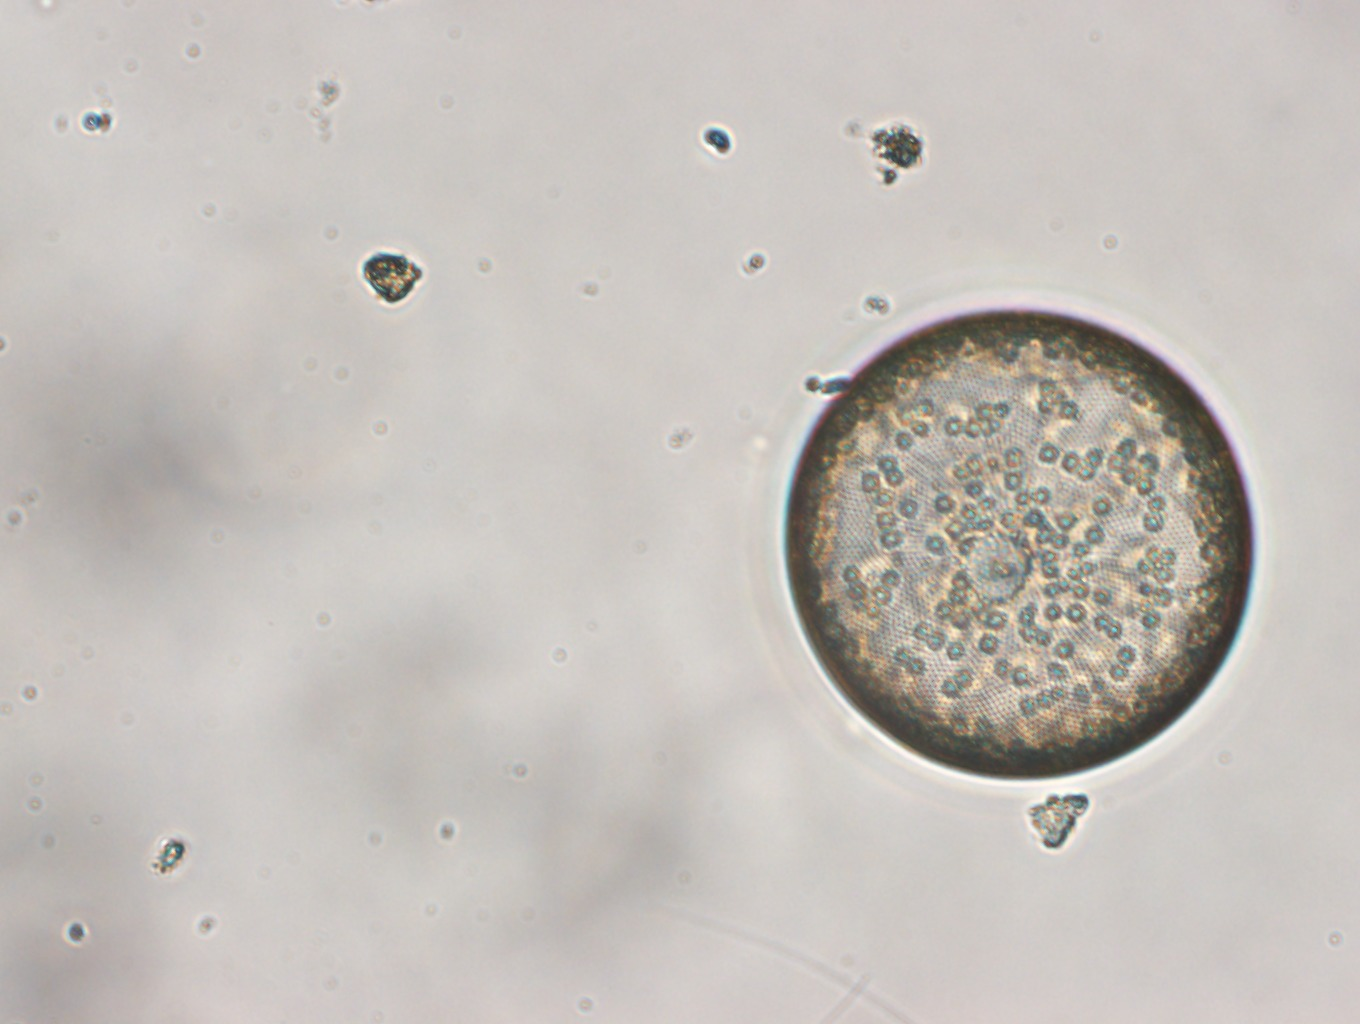coscinodiscus: (781, 307, 1256, 784)
